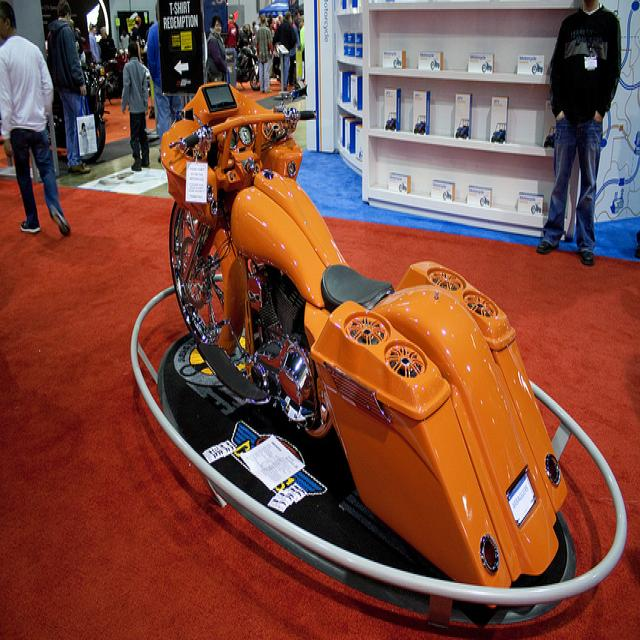motor: (160, 76, 571, 582), (82, 66, 116, 165)
